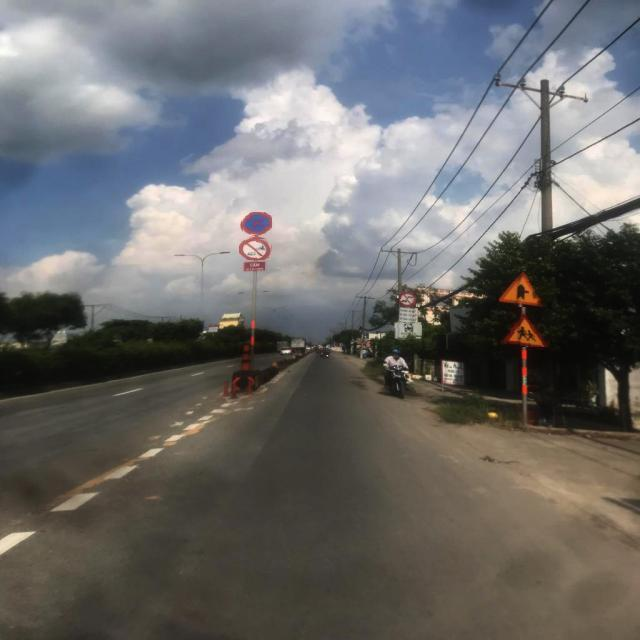107-cam-oto-khach-va-oto-tai: (400, 291, 420, 307)
130-cam-dung-va-do-xe: (238, 212, 274, 236)
207-giao-nhau-voi-duong-khong-uu-tien: (498, 272, 544, 308)
225-chu-y-tre-em: (502, 314, 546, 350)
